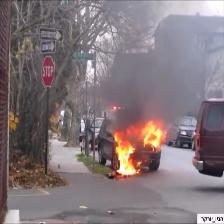fire: (111, 136, 136, 178), (141, 120, 162, 148)
smoke: (118, 56, 187, 115)
